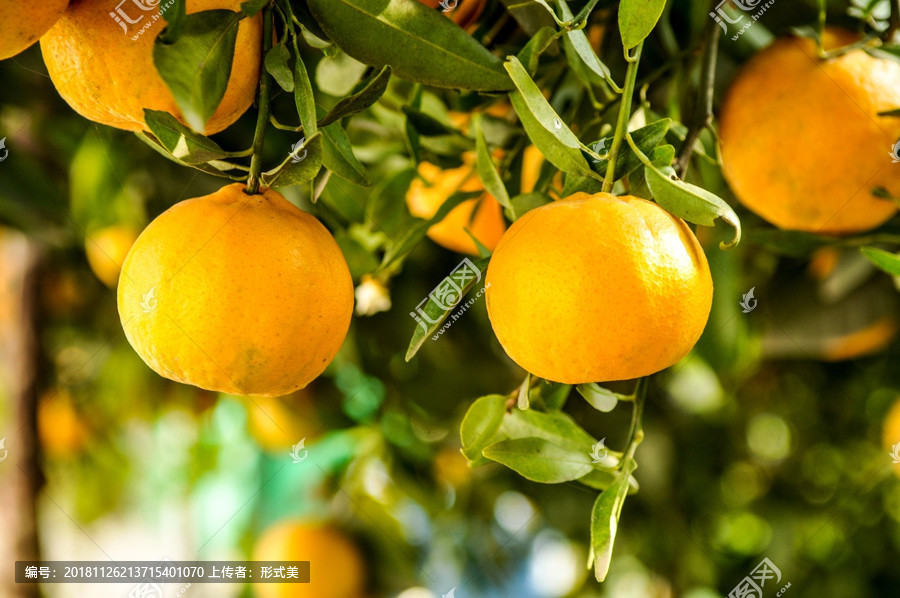orange: (116, 183, 353, 401), (483, 191, 709, 381), (712, 27, 900, 233), (398, 92, 597, 256), (37, 1, 265, 137), (1, 1, 78, 63)
